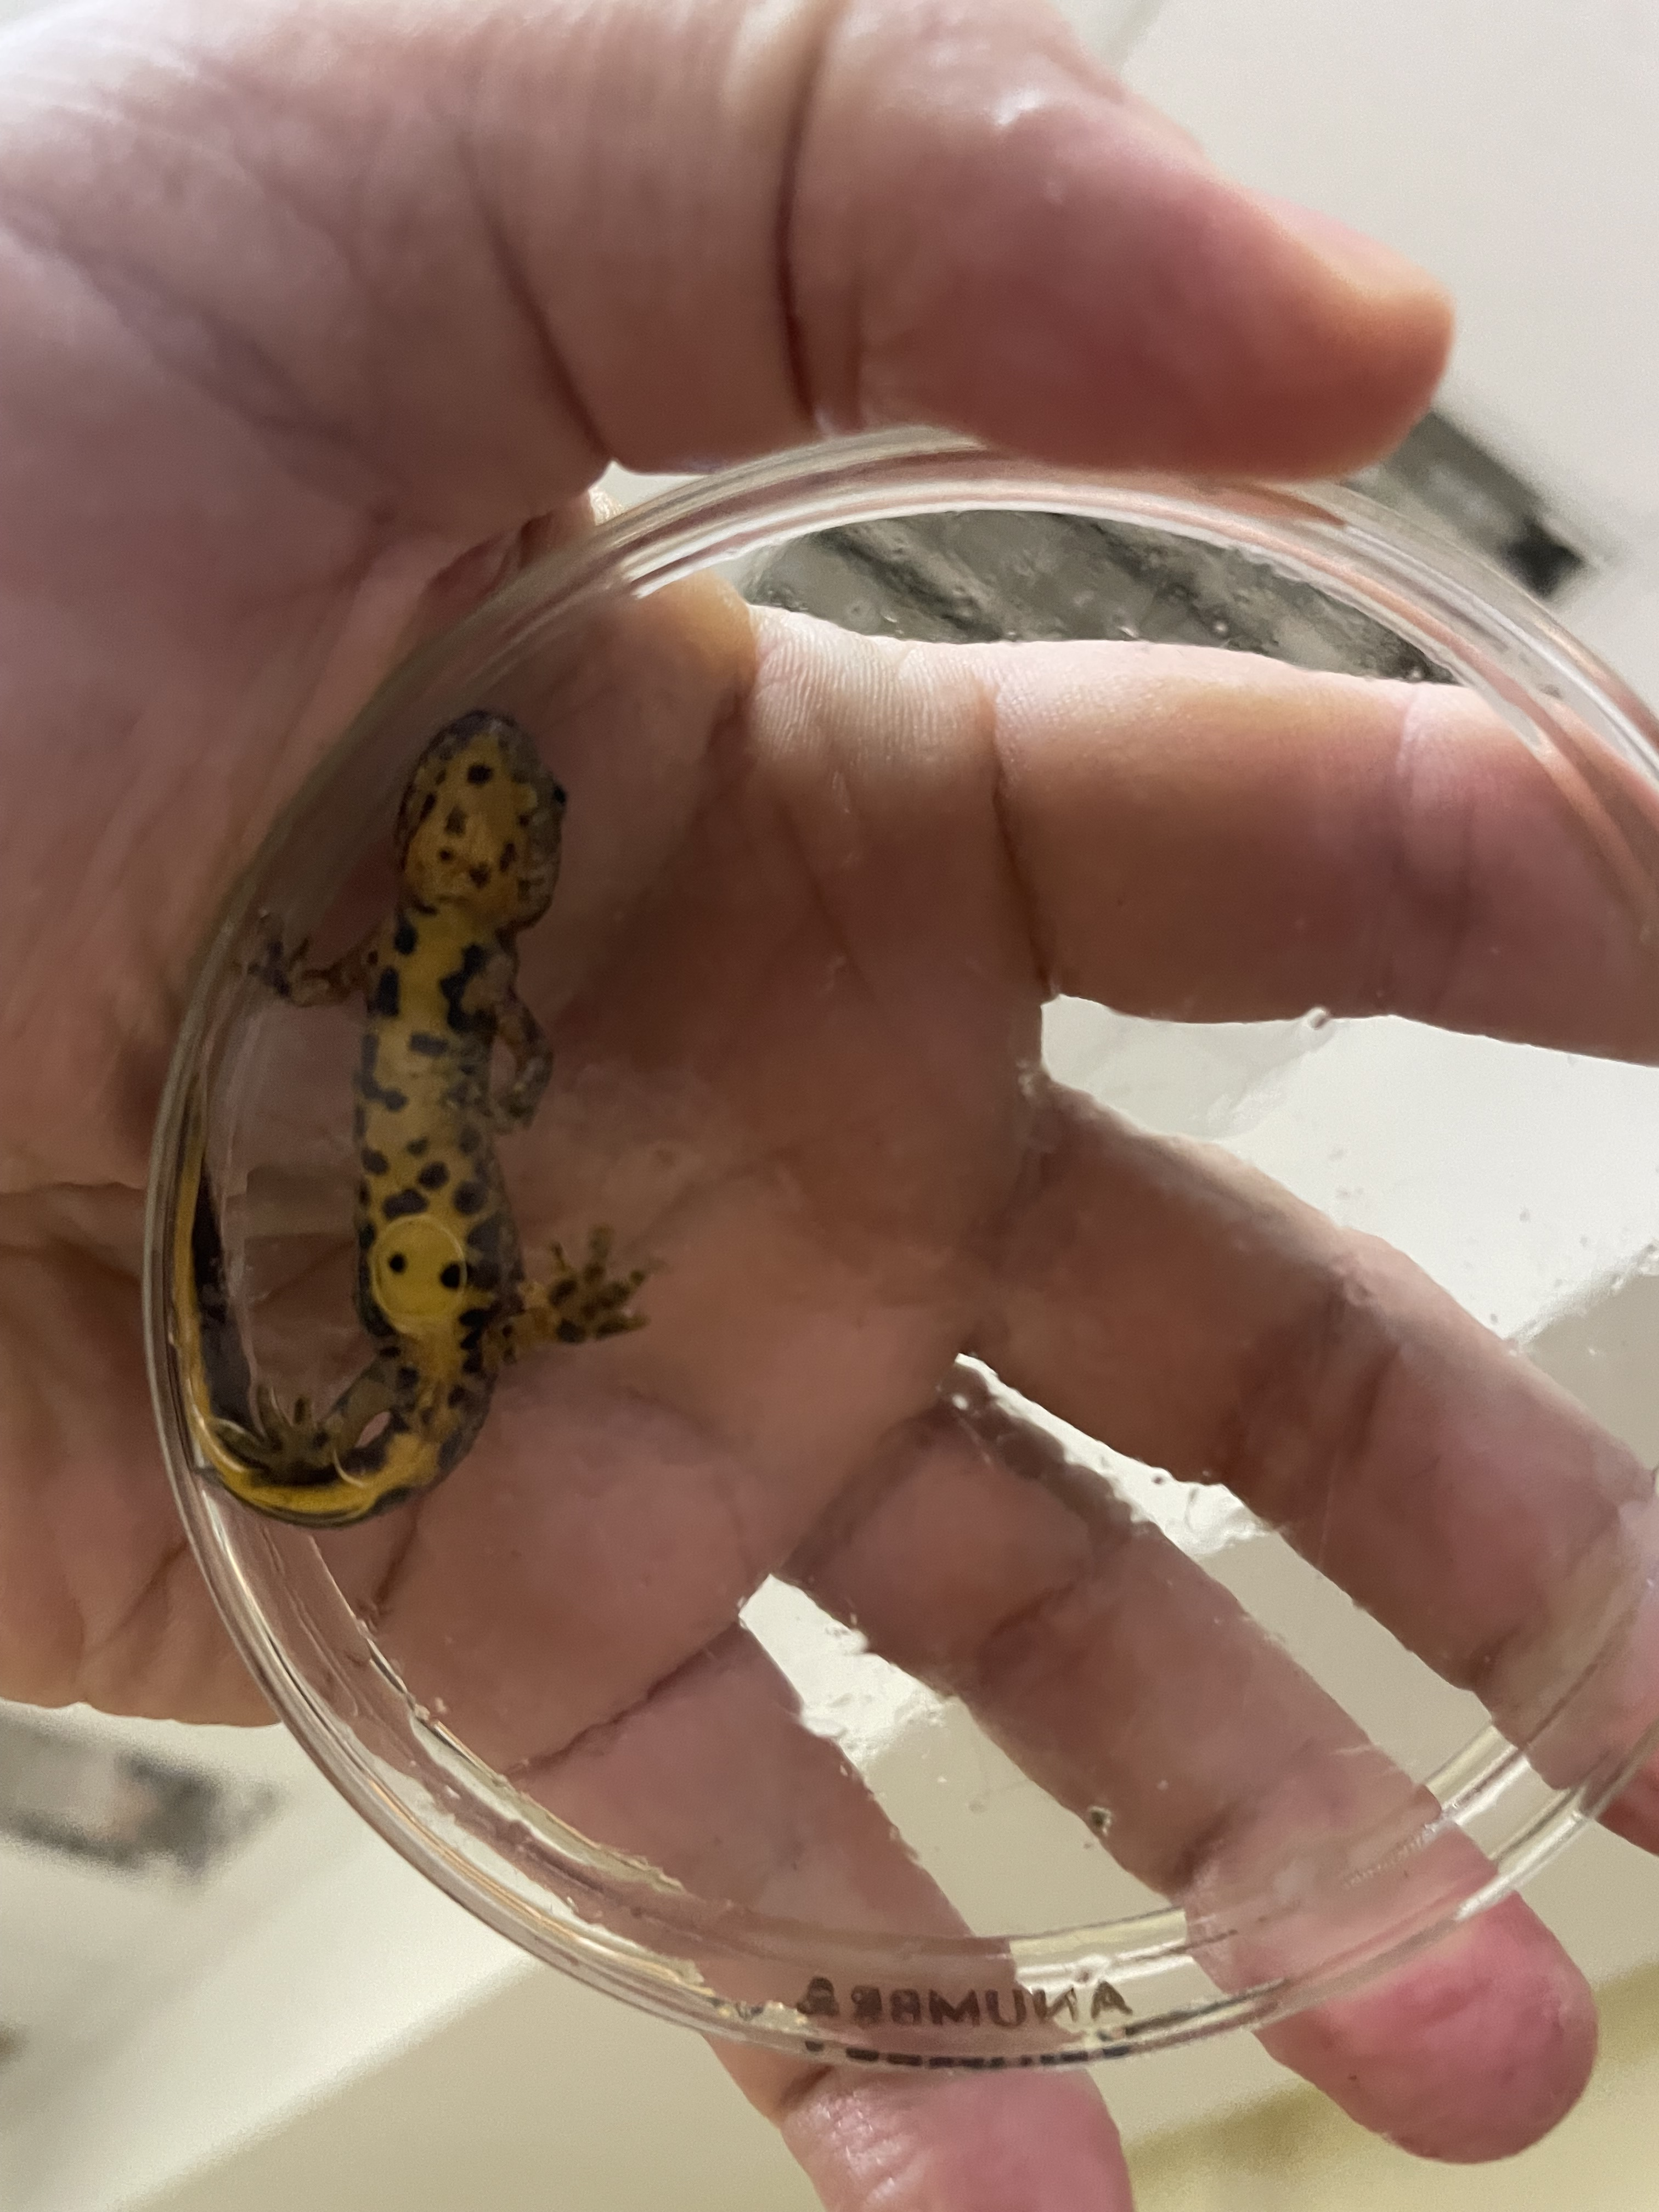Karelin_newt: (352, 996, 525, 1353)
